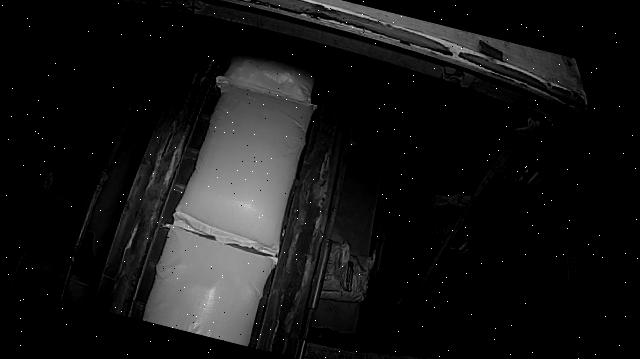bag: (168, 76, 316, 258), (139, 223, 279, 348), (215, 22, 323, 106)
